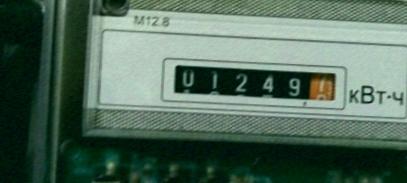0: (180, 68, 195, 89)
1: (207, 70, 220, 91)
2: (232, 72, 249, 95)
4: (261, 74, 275, 94)
7: (315, 73, 329, 94)
9: (287, 77, 301, 99)
screen: (157, 54, 350, 114)
